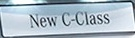character: (29, 12, 39, 28), (61, 11, 71, 26), (74, 10, 84, 25)
